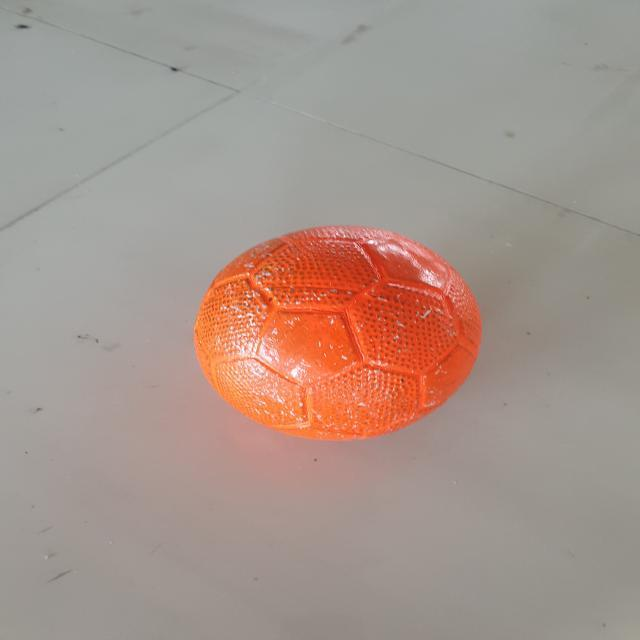bola: (173, 210, 502, 464)
